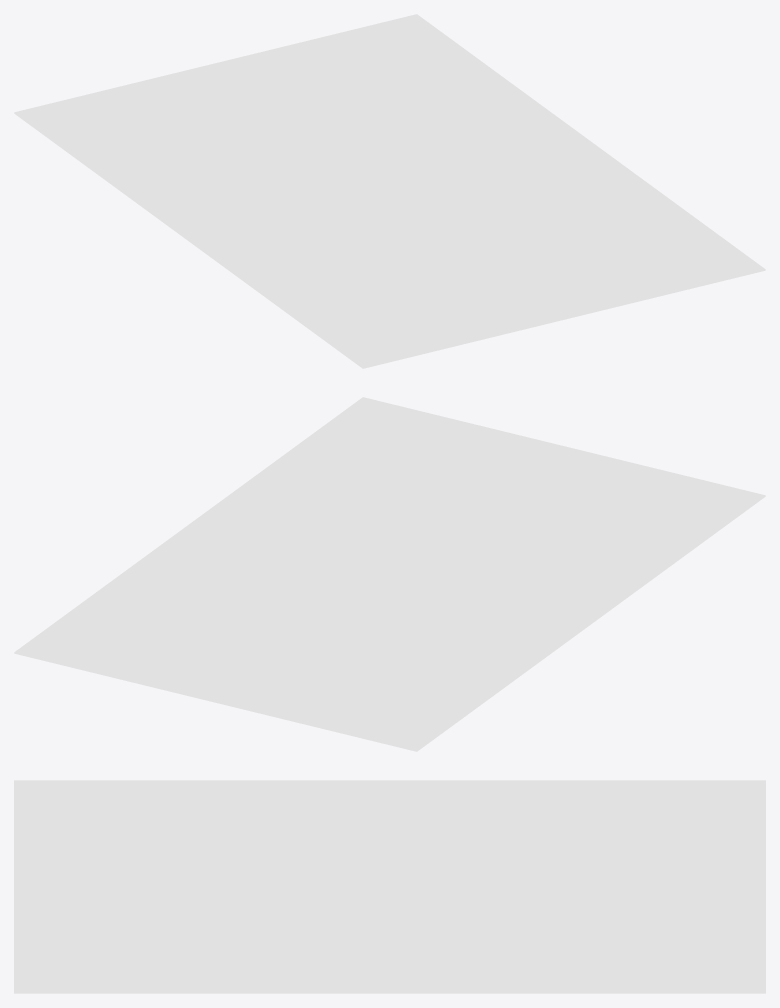
File: book.glb
3 views of the same model, one above another, from view 1: azimuth 30°, elevation 25°; view 2: azimuth 150°, elevation 25°; view 3: azimuth 270°, elevation 25° (orthographic). The views are drawn at different scales.
Parts seen in each view (by area): view 1: Page-1, Page-2, Page-3; view 2: Page-1, Page-2, Page-3; view 3: Page-1, Page-2, Page-3.
Boxes of the visible parts, <box> form: Page-1: <box>14,14,765,367</box>; Page-2: <box>14,113,765,368</box>; Page-3: <box>14,113,765,368</box>; Page-1: <box>14,397,765,750</box>; Page-2: <box>14,496,765,751</box>; Page-3: <box>14,496,765,751</box>; Page-1: <box>14,780,765,992</box>; Page-2: <box>14,992,765,992</box>; Page-3: <box>14,993,765,993</box>.
Bounding box in the file's own units: 20 × 0.05 × 30.
3 materials, 3 textured.
